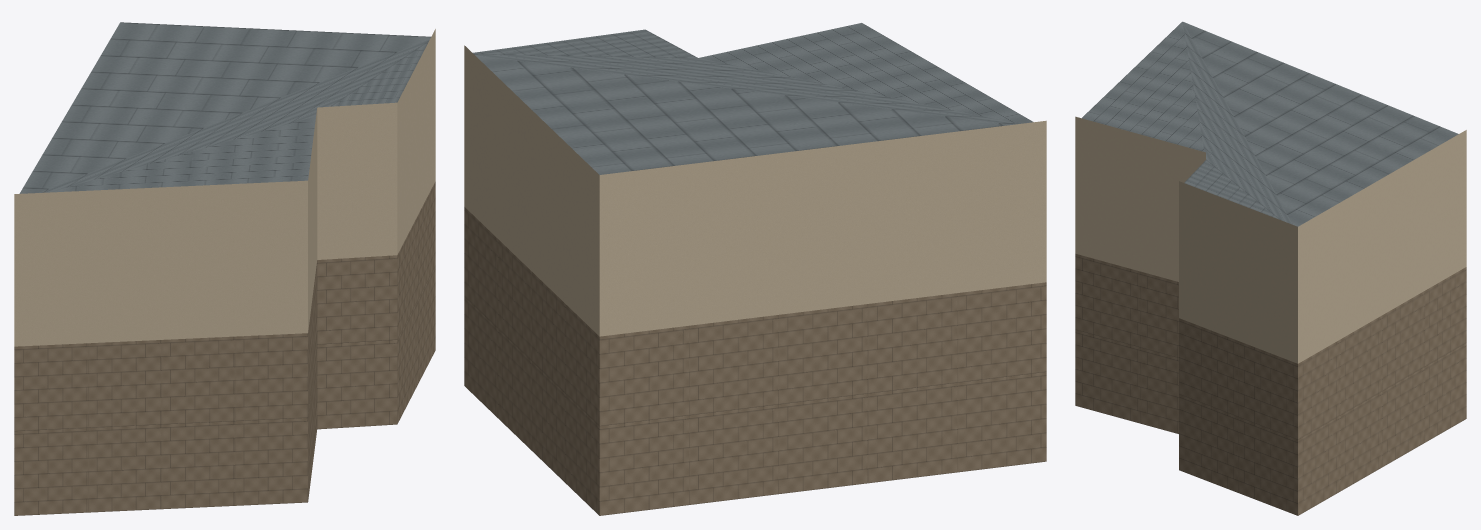
File: bld_c38_-12_533.gltf
3 renders of one model, left to right at view 1: azimuth 30°, elevation 25°; view 2: azimuth 150°, elevation 25°; view 3: azimuth 270°, elevation 25°, orthographic. The views are drawn at different scales.
Visible parts, largest first — view 1: bld_c38_-12_533; view 2: bld_c38_-12_533; view 3: bld_c38_-12_533.
Boxes of the visible parts, x1,y1,x2,y2 form: bld_c38_-12_533: [14, 22, 435, 515]; bld_c38_-12_533: [464, 23, 1046, 515]; bld_c38_-12_533: [1075, 21, 1466, 515].
Bounding box in the file's own units: 14.65 × 9.28 × 11.38.
4 materials, 4 textured.
